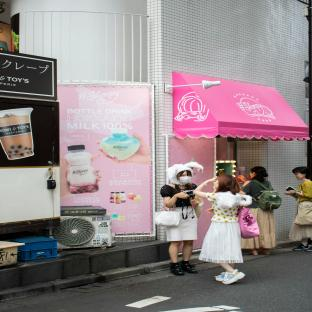Human: (195, 175, 252, 284), (160, 162, 204, 275)
